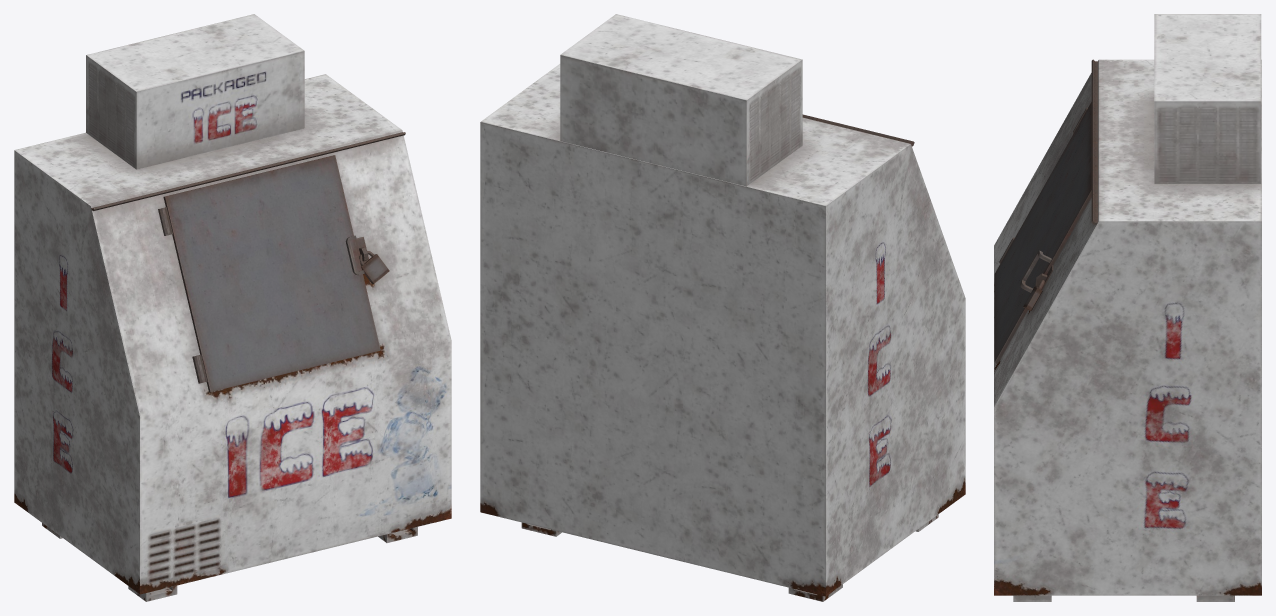
The picture shows the model from 3 angles, left to right: view 1: azimuth 30°, elevation 25°; view 2: azimuth 150°, elevation 25°; view 3: azimuth 270°, elevation 25°; orthographic projection. The views are drawn at different scales.
Visible parts, largest first — view 1: Freezer, Door, Power_Cooler, Guard; view 2: Freezer, Power_Cooler; view 3: Freezer, Power_Cooler, Door, Guard.
Boxes of the visible parts, x1,y1,x2,y2 form: Freezer: [14, 74, 451, 594]; Door: [163, 155, 380, 392]; Power_Cooler: [86, 14, 304, 169]; Guard: [91, 132, 405, 210]; Freezer: [480, 64, 965, 596]; Power_Cooler: [560, 14, 802, 186]; Freezer: [994, 59, 1261, 595]; Power_Cooler: [1154, 14, 1261, 183]; Door: [994, 102, 1091, 363]; Guard: [1091, 59, 1097, 224].
Bounding box in the file's own units: 50 × 68.66 × 35.
2 materials, 2 textured.
